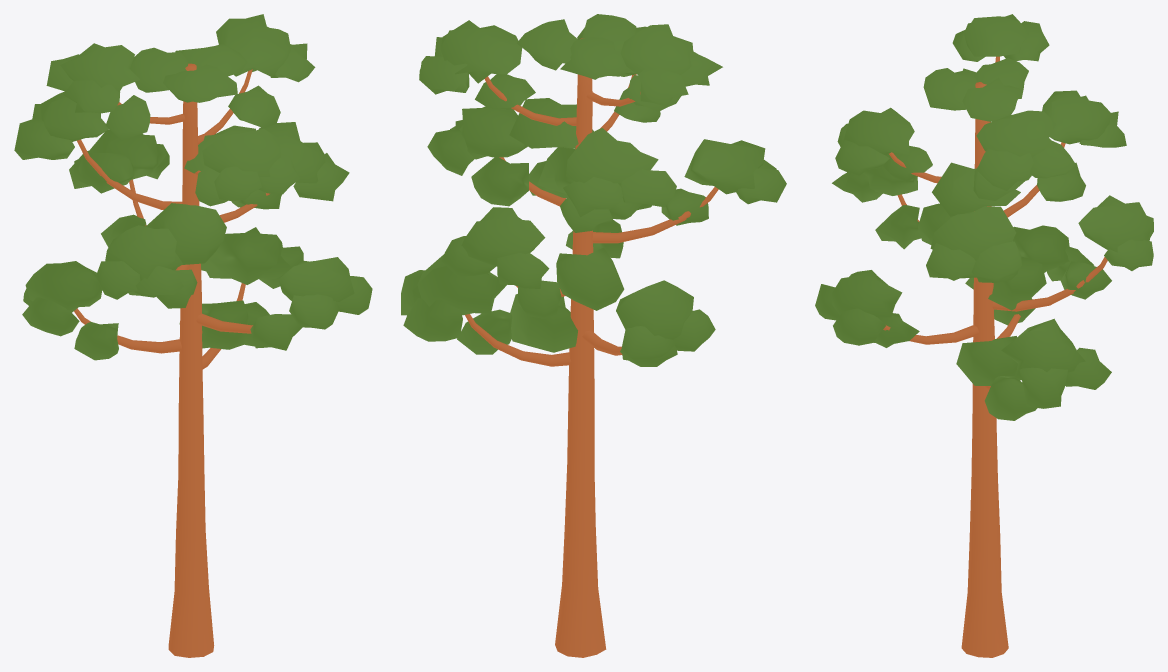
Rendered from Blender_Ponderosa_1.glb.
The picture shows the model from 3 angles, left to right: view 1: azimuth 30°, elevation 25°; view 2: azimuth 150°, elevation 25°; view 3: azimuth 270°, elevation 25°; orthographic projection. The views are drawn at different scales.
Visible parts, largest first — view 1: Blender_Ponderosa_1; view 2: Blender_Ponderosa_1; view 3: Blender_Ponderosa_1.
Part boxes in pixels (left/top/right/bottom): Blender_Ponderosa_1: left=14, top=14, right=372, bottom=657; Blender_Ponderosa_1: left=401, top=14, right=786, bottom=657; Blender_Ponderosa_1: left=815, top=14, right=1153, bottom=657.
Size of the model in its own units: 15.73 by 32.39 by 16.78.
